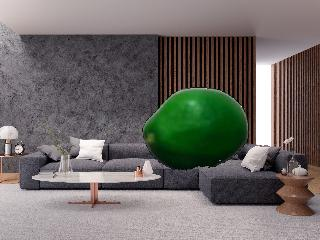lime: (140, 84, 250, 172)
